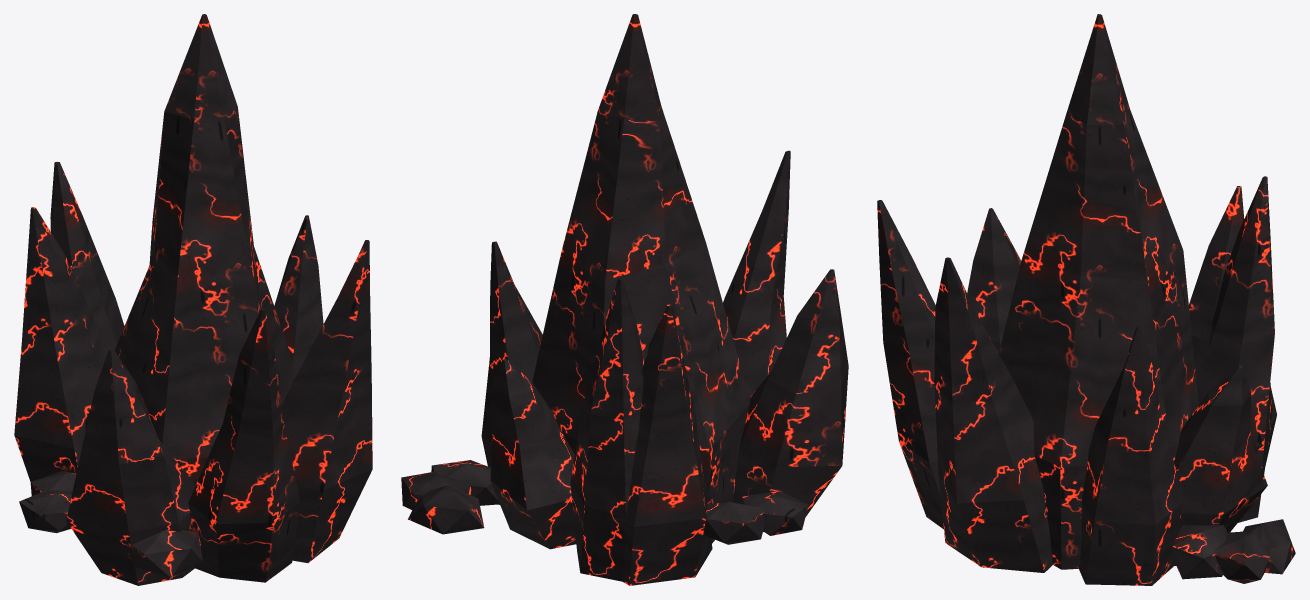
Rendered from spiky_rocks.glb.
3 renders of one model, left to right at view 1: azimuth 30°, elevation 25°; view 2: azimuth 150°, elevation 25°; view 3: azimuth 270°, elevation 25°, orthographic. The views are drawn at different scales.
Parts seen in each view (by area): view 1: SpikyRocks; view 2: SpikyRocks; view 3: SpikyRocks.
Part boxes in pixels (bbox=[...]): SpikyRocks: bbox=[14, 14, 372, 585]; SpikyRocks: bbox=[401, 14, 848, 585]; SpikyRocks: bbox=[877, 14, 1295, 585].
Size of what is drawn, in the model's own units: 4.53 by 6.4 by 4.73.
1 material, 1 textured.
